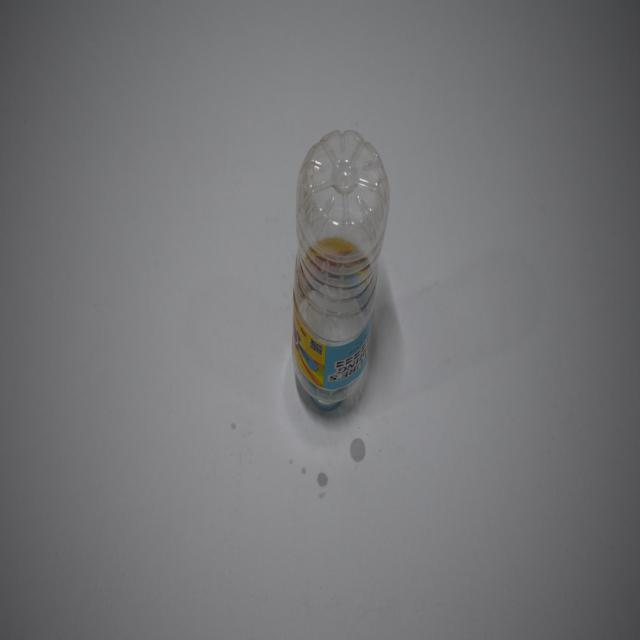bottle: (287, 120, 392, 427)
